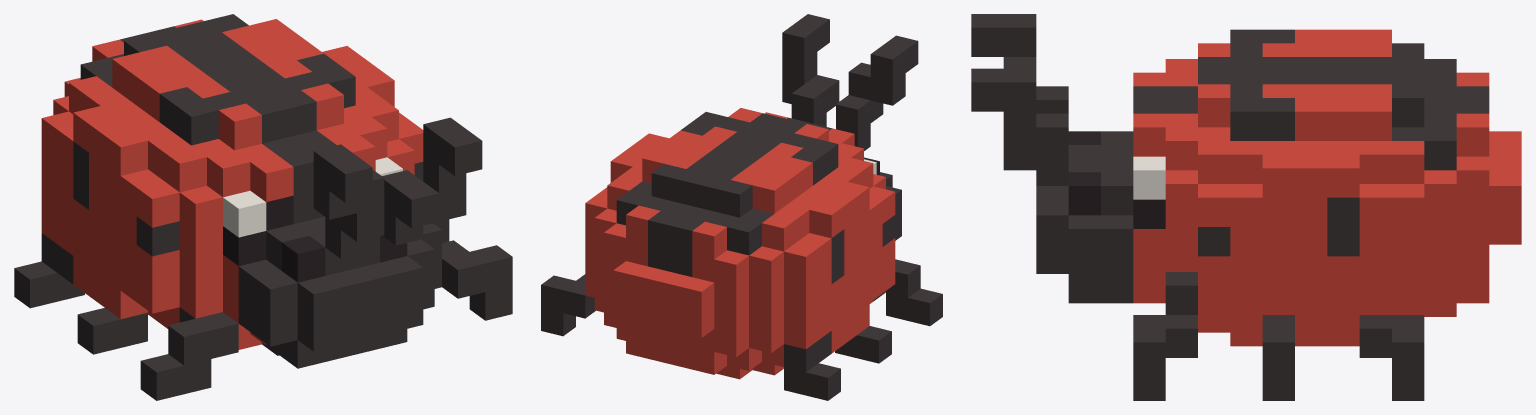
The model's file is ladybug.glb.
3 views of the same model, side by side, from view 1: azimuth 30°, elevation 25°; view 2: azimuth 150°, elevation 25°; view 3: azimuth 270°, elevation 25° (orthographic). The views are drawn at different scales.
Parts seen in each view (by area): view 1: ladybug; view 2: ladybug; view 3: ladybug.
Part boxes in pixels (box(x1,y1,x2,y2)): ladybug: box(14, 14, 512, 400); ladybug: box(541, 14, 942, 400); ladybug: box(971, 14, 1521, 400).
Bounding box in the file's own units: 0.26 × 0.18 × 0.34.
Materials: 1 (1 with a texture image).
